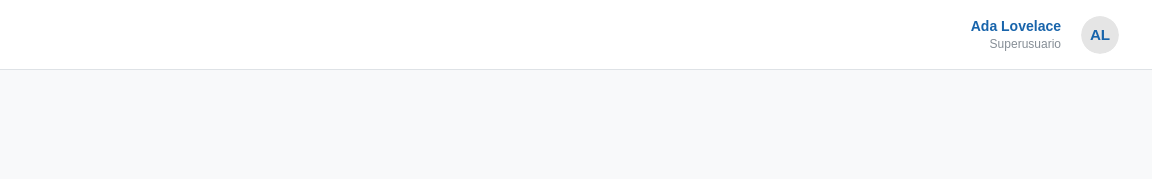
Test: AppHeader — menú del usuario (SHG-FE-134) › sin empresa no ofrece 'Mi perfil' pero sí el toggle de tema y 'Cerrar sesión'
Click the text "Ada Lovelace" at (1016, 26), box [971,16,1061,36]
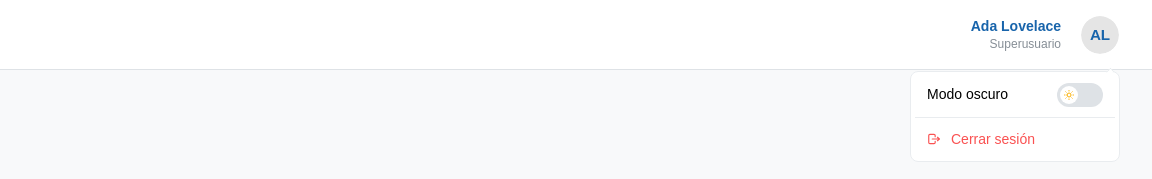
Check: the menu is shown, box [910,71,1120,162]
Check: the menu item "Modo oscuro" is shown, box [915,76,1115,113]
Check: the menu item "Cerrar sesión" is shown, box [915,122,1115,157]
